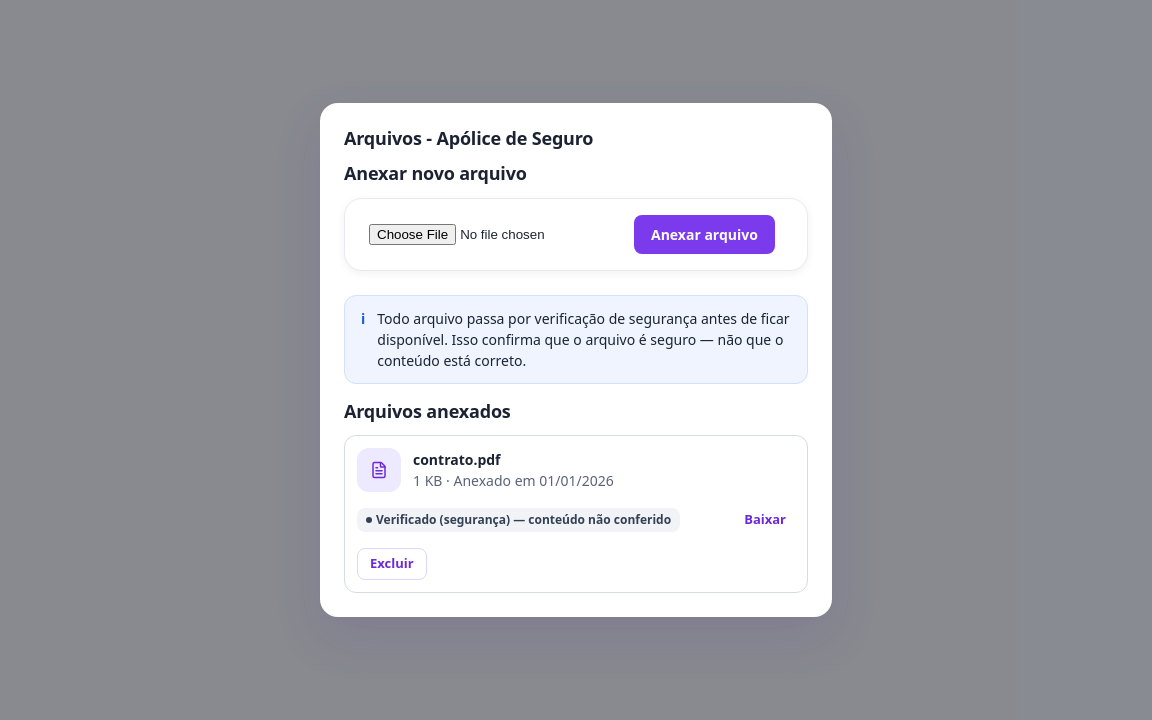
it: ItemDocuments (A07) › Codex block-review finding: a failed delete is surfaced as a visible error, not a confirm button that silently does nothing
The image size is (1152, 720).
Click the button "Excluir" at (392,564), box x1=357 y1=548 x2=427 y2=580
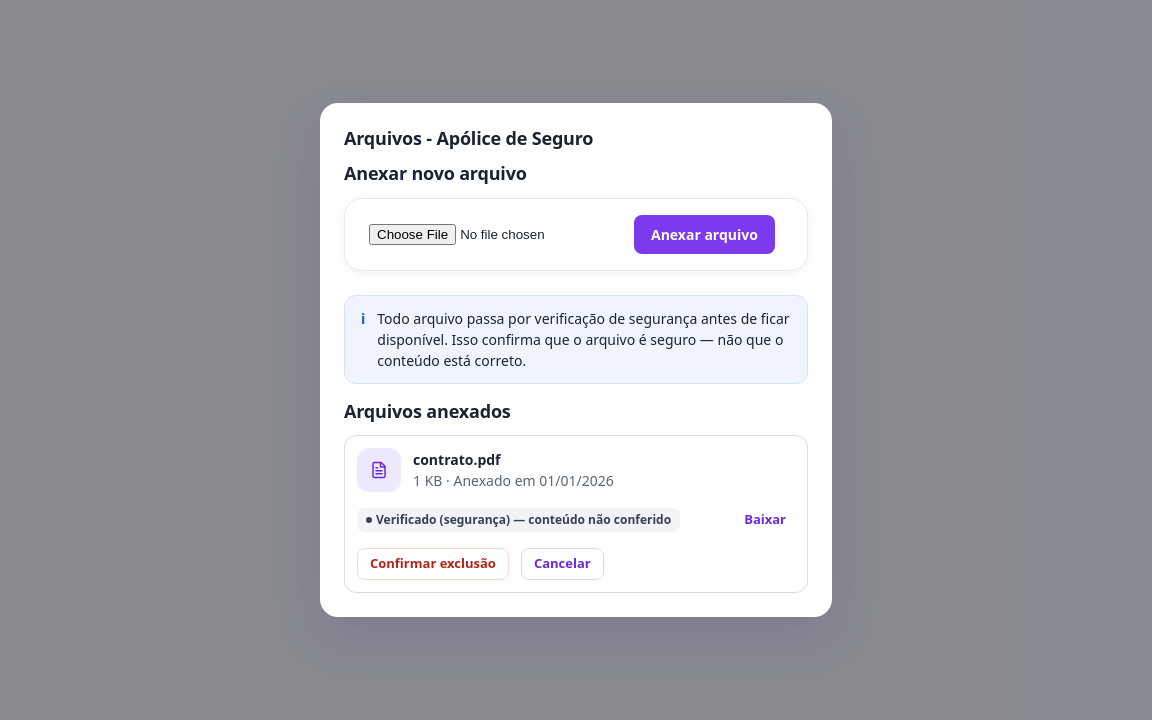
Click the button "Confirmar exclusão" at (433,564), box x1=357 y1=548 x2=509 y2=580
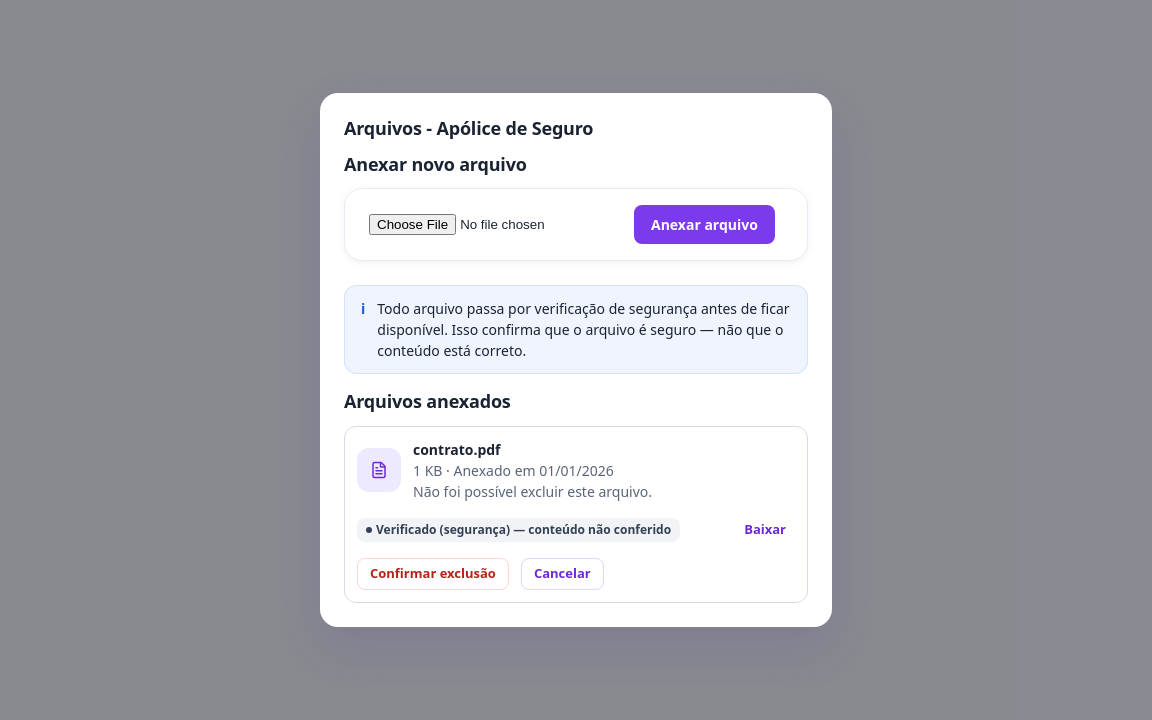
Check: the text "contrato.pdf" is shown, box x1=413 y1=440 x2=500 y2=459
Check: the message reads "Não foi possível excluir este arquivo.", box x1=413 y1=482 x2=652 y2=501
